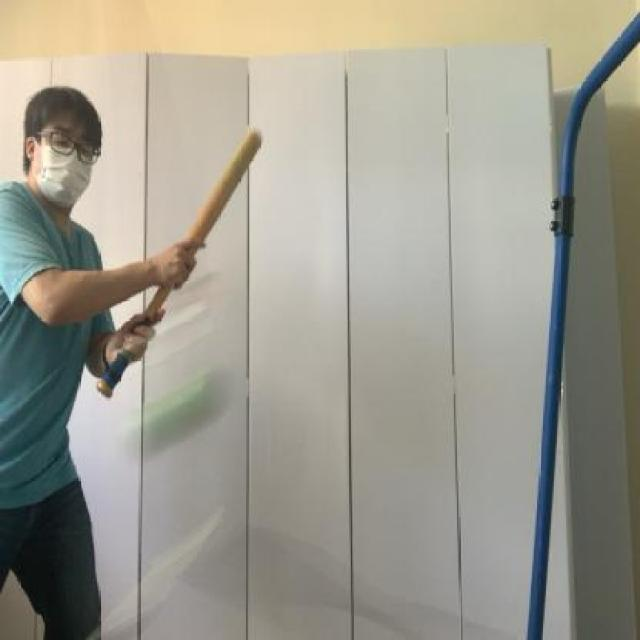baseball: (123, 352, 245, 460)
